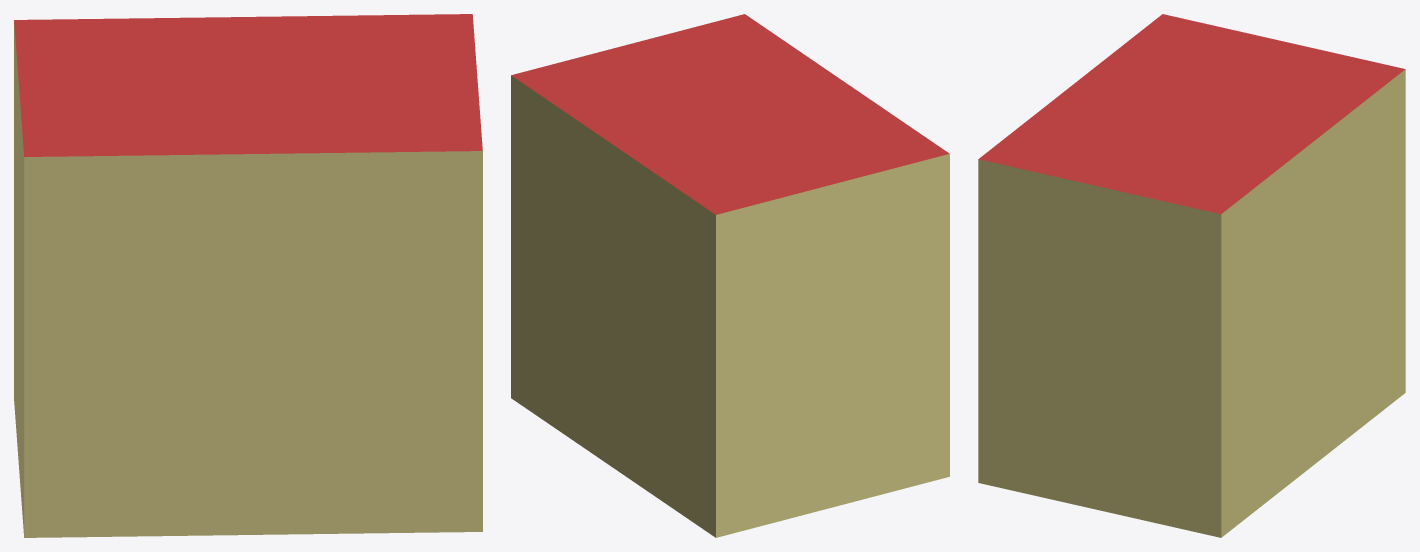
3 views of the same model, side by side, from view 1: azimuth 30°, elevation 25°; view 2: azimuth 150°, elevation 25°; view 3: azimuth 270°, elevation 25° (orthographic). The views are drawn at different scales.
Bounding box in the file's own units: 7.46 × 6.72 × 5.62.
